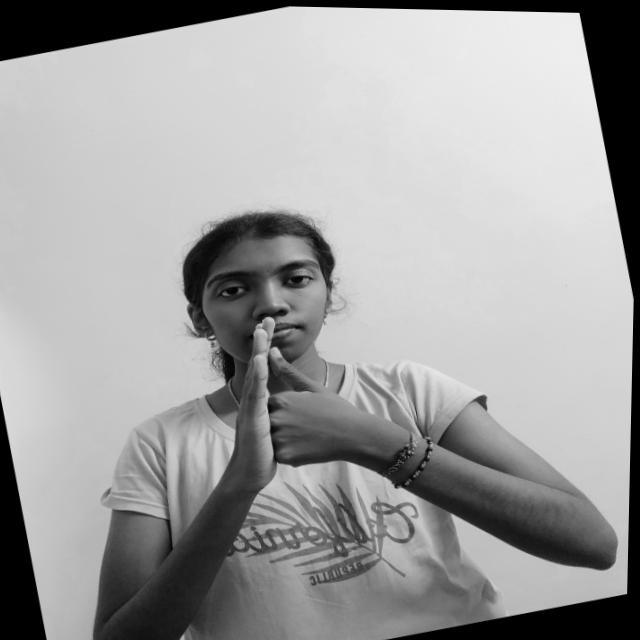Well Done: (187, 287, 411, 496)
